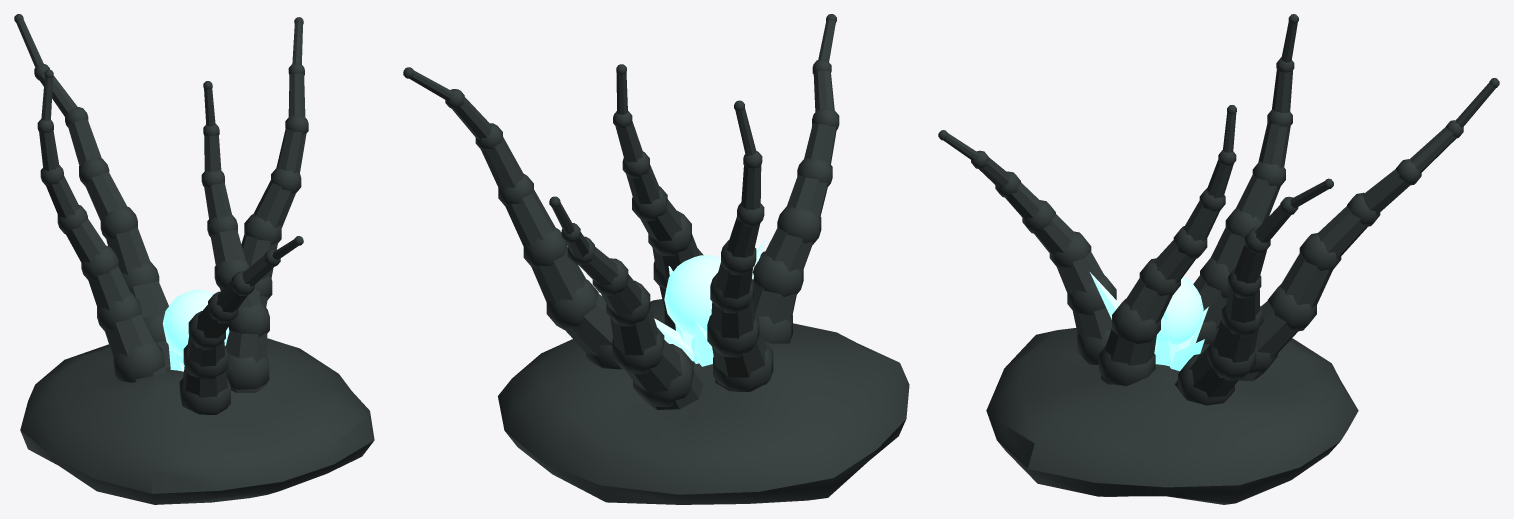
Rendered from source_root.glb.
3 views of the same model, side by side, from view 1: azimuth 30°, elevation 25°; view 2: azimuth 150°, elevation 25°; view 3: azimuth 270°, elevation 25° (orthographic). The views are drawn at different scales.
Visible parts, largest first — view 1: body_mesh; view 2: body_mesh; view 3: body_mesh.
Boxes of the visible parts, bbox=[...] form: body_mesh: bbox=[14, 14, 374, 504]; body_mesh: bbox=[403, 14, 909, 504]; body_mesh: bbox=[938, 14, 1499, 504].
Size of the model in its own units: 1.27 by 1.43 by 1.76.
